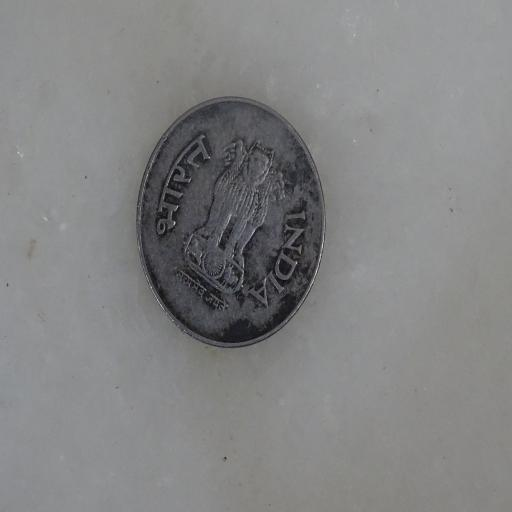rupee1: (136, 100, 327, 350)
